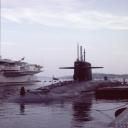submarine: (2, 43, 126, 104)
